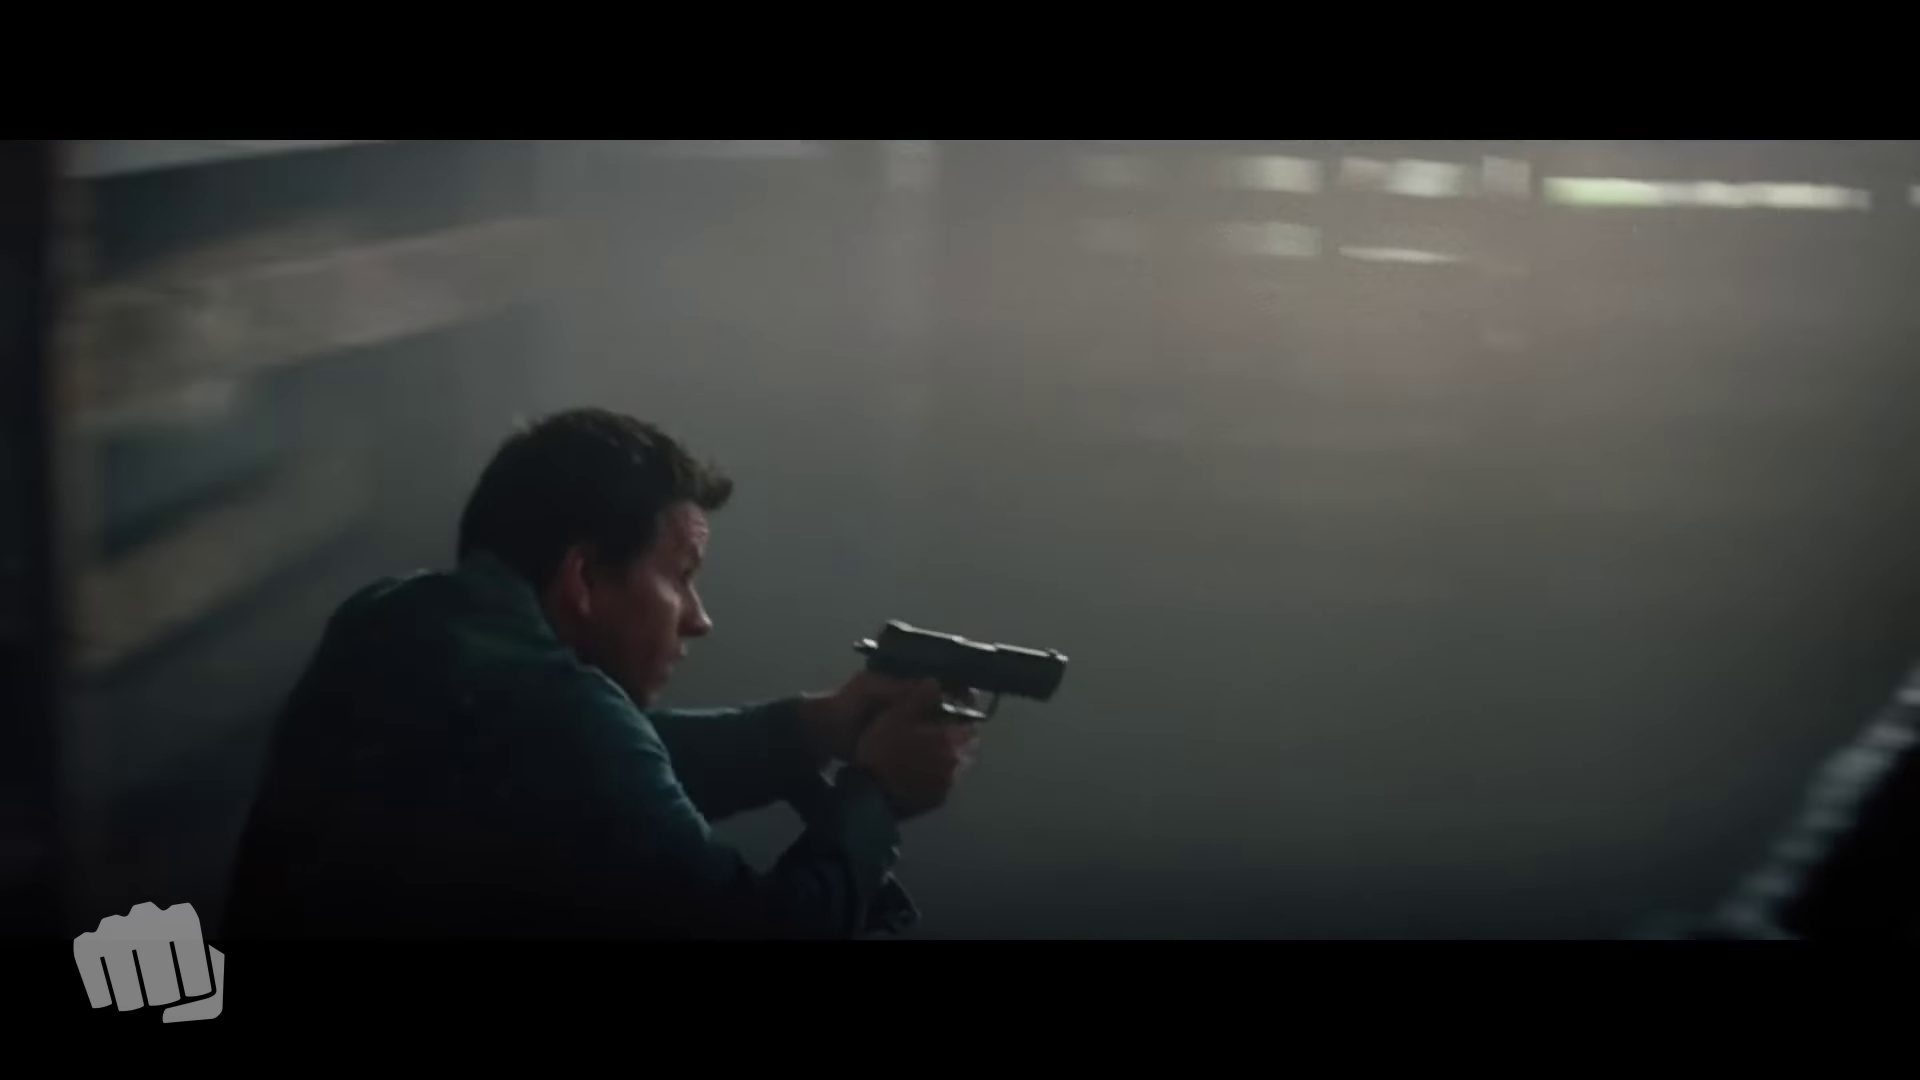gun: (852, 622, 1071, 728)
p_w_gun: (233, 402, 1069, 935)
